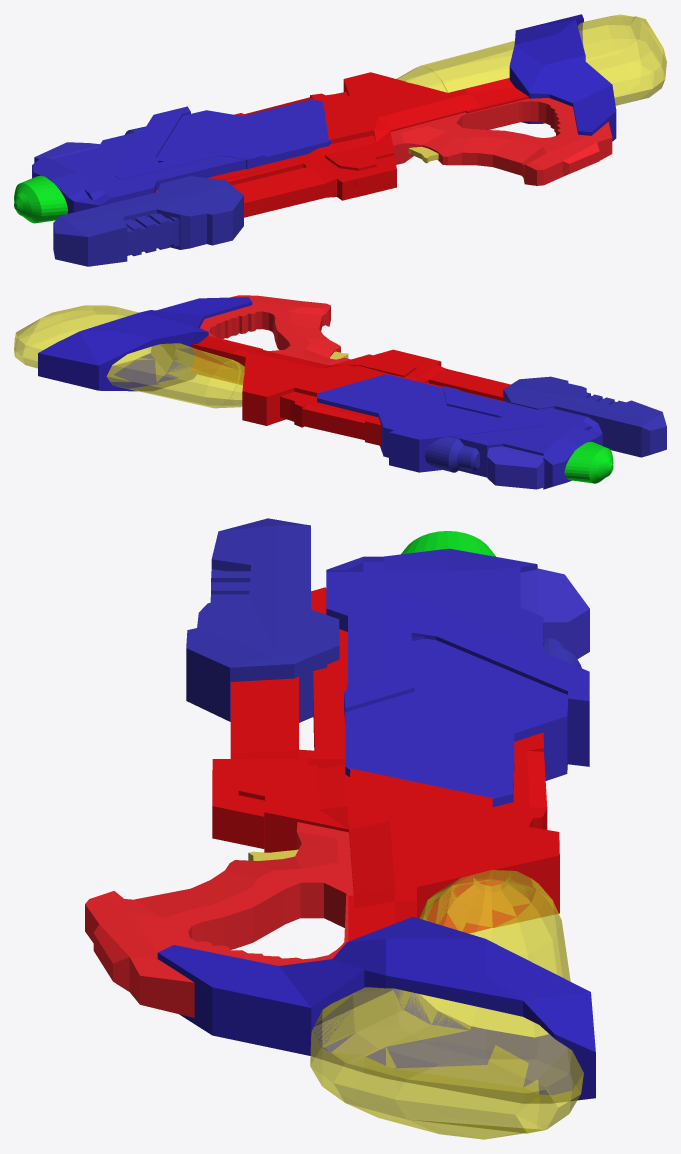
Rendered from Bannana_Gun_2.fbx.
3 views of the same model, one above another, from view 1: azimuth 30°, elevation 25°; view 2: azimuth 150°, elevation 25°; view 3: azimuth 270°, elevation 25° (orthographic). The views are drawn at different scales.
Visible parts, largest first — view 1: Cube, Cube.008, Cube.005, Cube.002, Circle.001, Cube.001, Cube.004, Cube.006, Circle, Cube.007, Cube.003; view 2: Cube.001, Circle.001, Cube.005, Cube.002, Cube, Cube.006, Cube.008, Cube.003, Cube.004, Cube.007, Circle, Circle.002; view 3: Cube.001, Circle.001, Cube.005, Cube.002, Cube.008, Cube, Cube.006, Cube.004, Cube.007, Cube.003, Circle.
Boxes of the visible parts, x1,y1,x2,y2 form: Cube: [53, 176, 243, 266]; Cube.008: [390, 98, 612, 185]; Cube.005: [115, 99, 330, 179]; Cube.002: [323, 72, 528, 188]; Circle.001: [396, 14, 666, 105]; Cube.001: [509, 14, 616, 141]; Cube.004: [156, 135, 396, 217]; Cube.006: [32, 130, 245, 213]; Circle: [14, 175, 67, 223]; Cube.007: [34, 142, 99, 162]; Cube.003: [234, 92, 347, 115]; Cube.001: [38, 297, 252, 391]; Circle.001: [14, 305, 244, 408]; Cube.005: [317, 374, 551, 472]; Cube.002: [191, 335, 416, 425]; Cube: [503, 376, 666, 457]; Cube.006: [451, 390, 602, 489]; Cube.008: [200, 295, 350, 365]; Cube.003: [280, 391, 380, 445]; Cube.004: [354, 349, 510, 401]; Cube.007: [487, 446, 544, 489]; Circle: [564, 441, 613, 483]; Circle.002: [425, 436, 479, 472]; Cube.001: [157, 917, 595, 1103]; Circle.001: [310, 869, 583, 1139]; Cube.005: [344, 593, 589, 807]; Cube.002: [238, 765, 559, 941]; Cube.008: [85, 822, 353, 1017]; Cube: [186, 518, 339, 722]; Cube.006: [326, 548, 543, 691]; Cube.004: [212, 587, 349, 848]; Cube.007: [520, 568, 589, 658]; Cube.003: [492, 732, 547, 873]; Circle: [401, 531, 495, 556].
Size of the model in its own units: 606 by 50.83 by 228.
